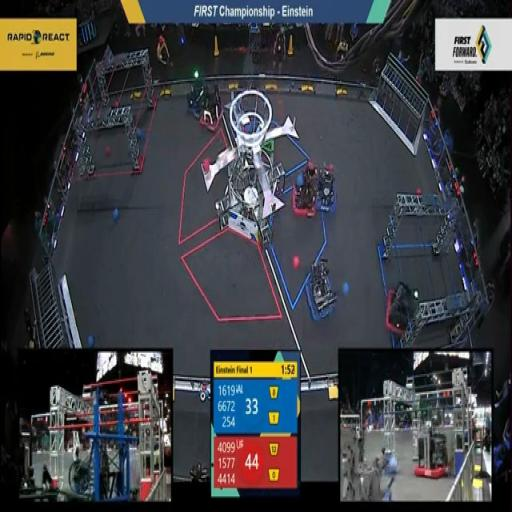robot: (376, 274, 418, 342), (302, 250, 340, 322), (286, 156, 322, 219), (314, 150, 338, 218), (198, 83, 228, 135), (183, 64, 207, 121)
